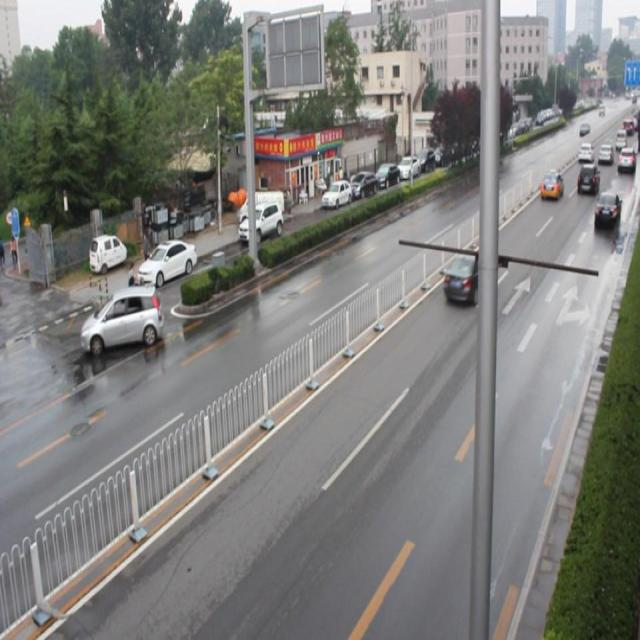car: (82, 284, 161, 351), (443, 243, 493, 305), (593, 190, 620, 228), (575, 160, 598, 193), (540, 167, 561, 196)
